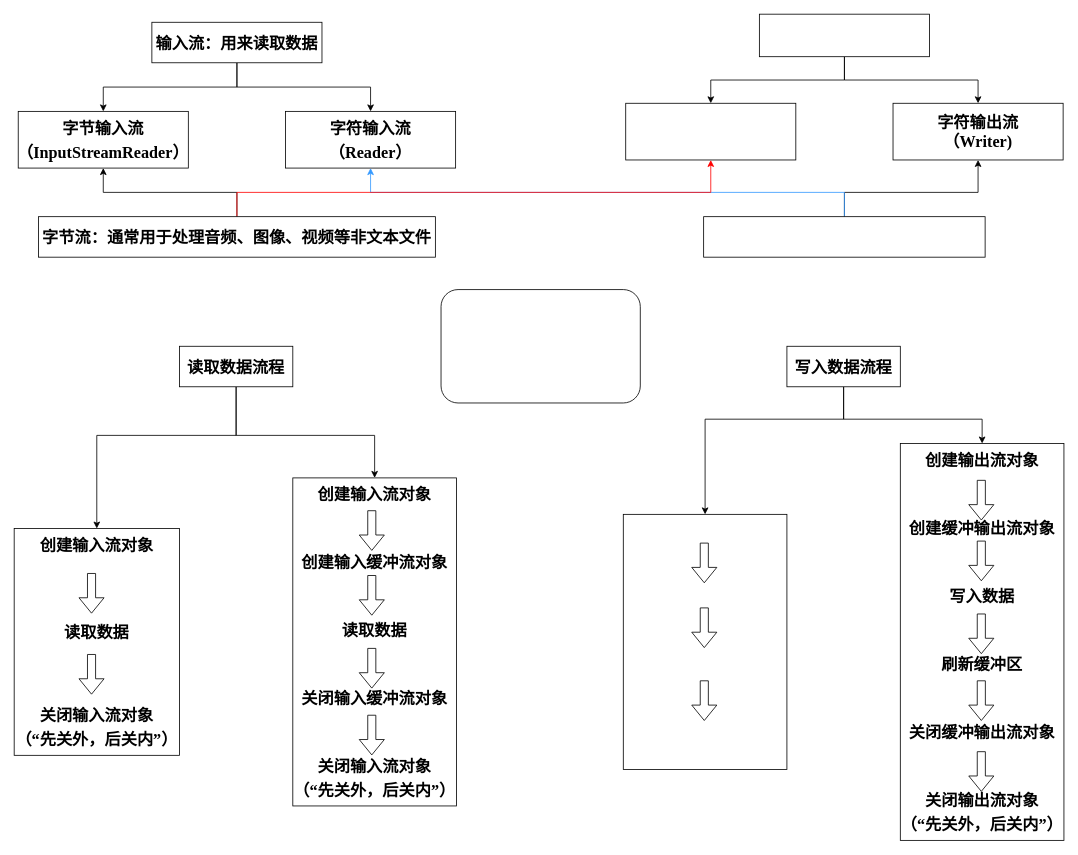
The diagram is 1078 pixels wide and 855 high, and some of its shapes have lost their labels. Each missing label, with the centre of its shape:
"具体请看 tools 包中的 ReadData 类和 WriteData 类 综合性应用可以结合 lottery 包中的 CarLotteryTest 类来理解" goes at (540,346).
"创建输出流对象 写入数据 刷新缓冲区 关闭输出流对象 （“先关外，后关内”）" goes at (704,642).
"字符流：适合处理文本文件、配置文件" goes at (844,236).
"字节输出流 （OutputStreamWriter）" goes at (710,131).
"输出流：用来写入数据" goes at (844,35).
